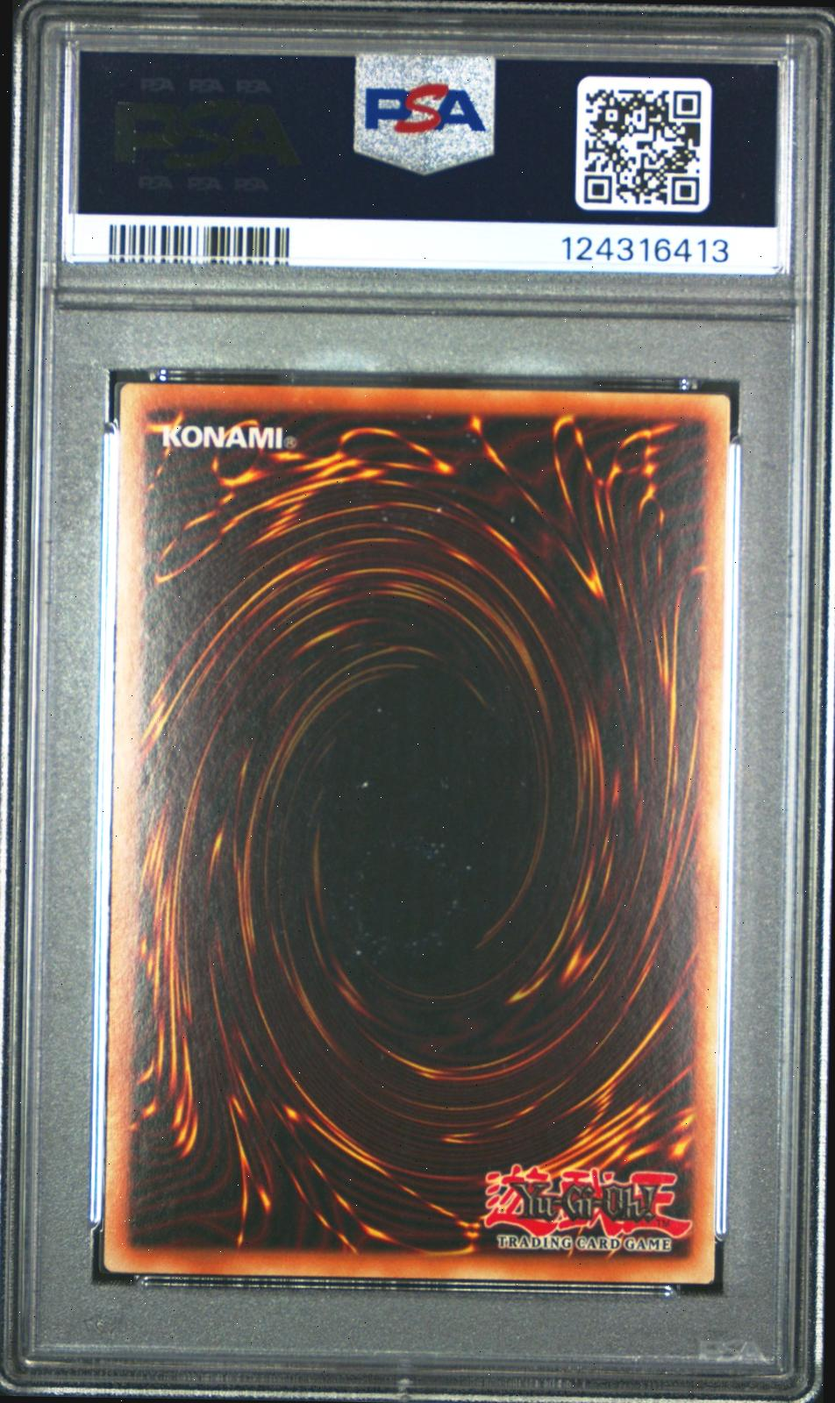card-2UtV: (102, 382, 731, 1284)
